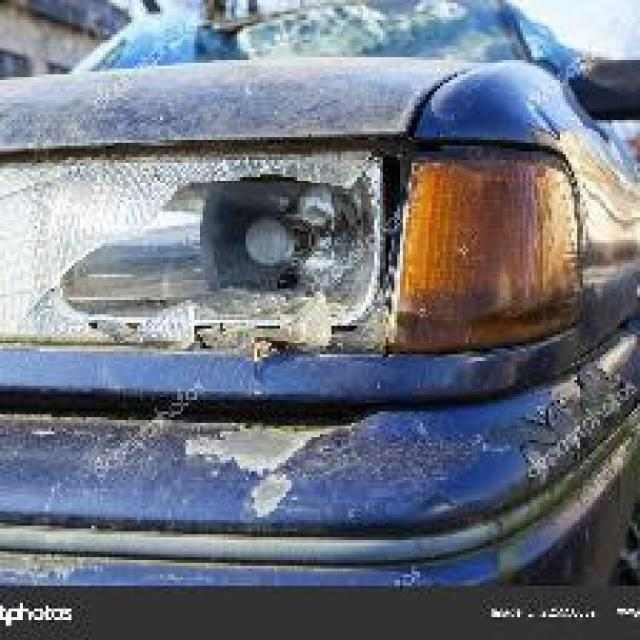damaged: (49, 152, 412, 386), (520, 357, 637, 572), (180, 412, 380, 528)
